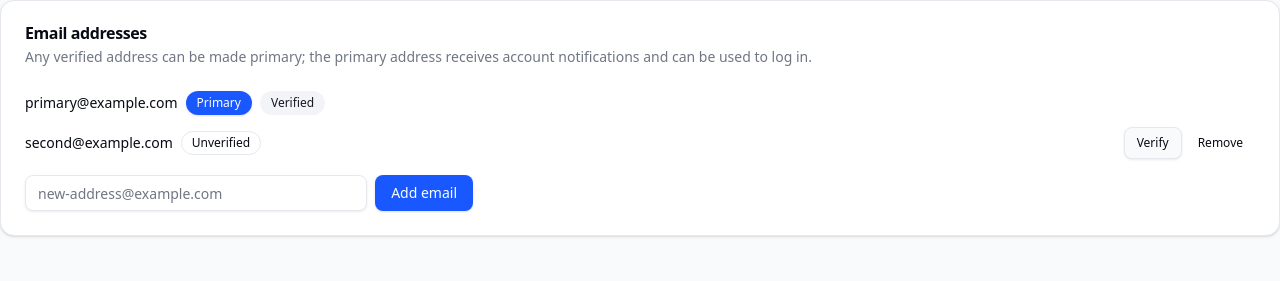
it: EmailsSection › maps an allauth 400 on add onto the email field
Check: the text "primary@example.com" is shown, box x1=25 y1=93 x2=178 y2=113
Type "dupe@example.com" into the field with placeholder "new-address@example.com".
click(196, 193); type("dupe@example.com")  # box x1=25 y1=175 x2=367 y2=211
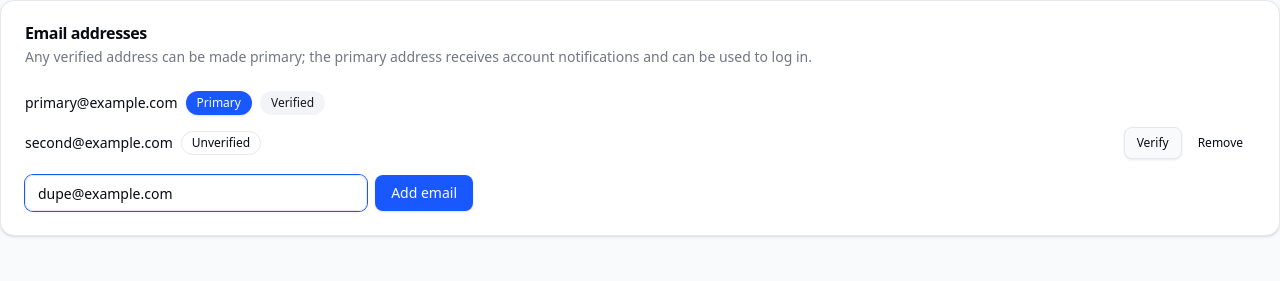
Click the button "Add email".
click(424, 193)  # box x1=375 y1=175 x2=473 y2=211
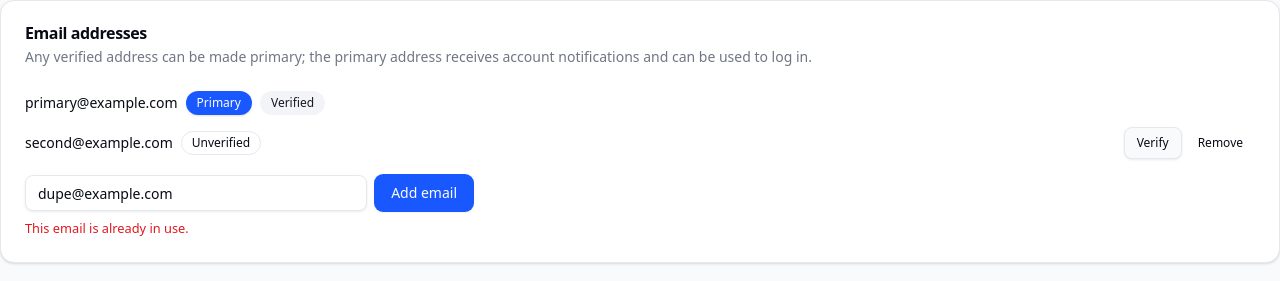
Check: the text "This email is already in use." is shown, box x1=25 y1=219 x2=189 y2=237
